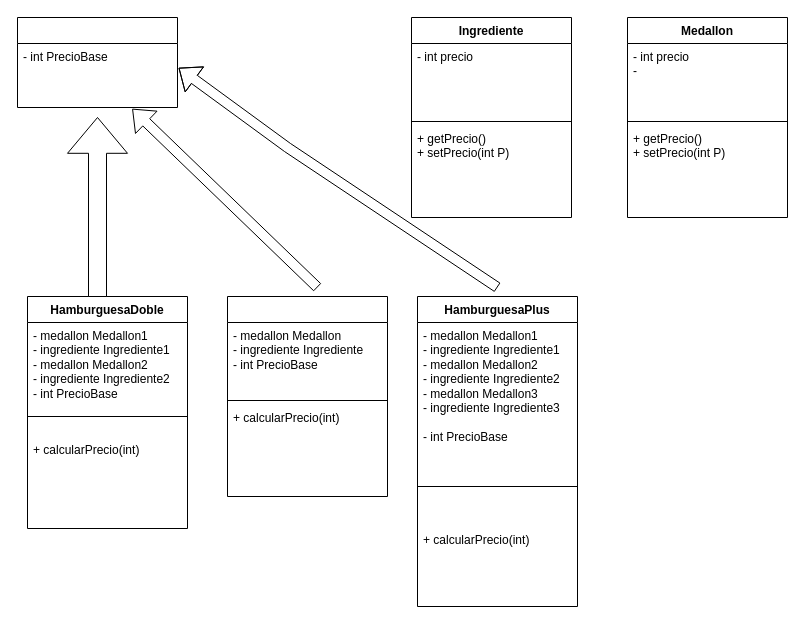
Some shapes in this 805 by 627 pixel diagram are drawn without their labels. Each missing label, with the box of its shape:
Hamburguesa: (16, 16, 178, 108)
HamburguesaSimple: (226, 296, 388, 496)
